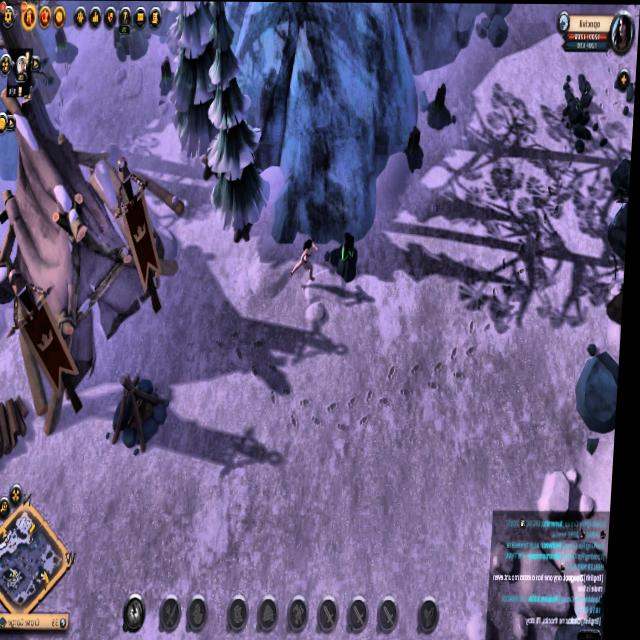sandstone: (111, 24, 153, 64)
tin_ore: (423, 72, 457, 134), (328, 229, 365, 285), (404, 123, 429, 176), (157, 48, 179, 101), (51, 25, 77, 67)
